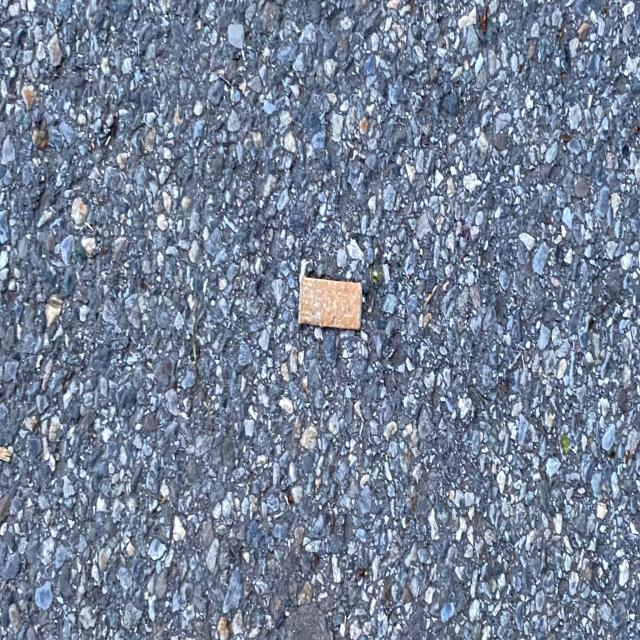other waste: (298, 276, 362, 332)
